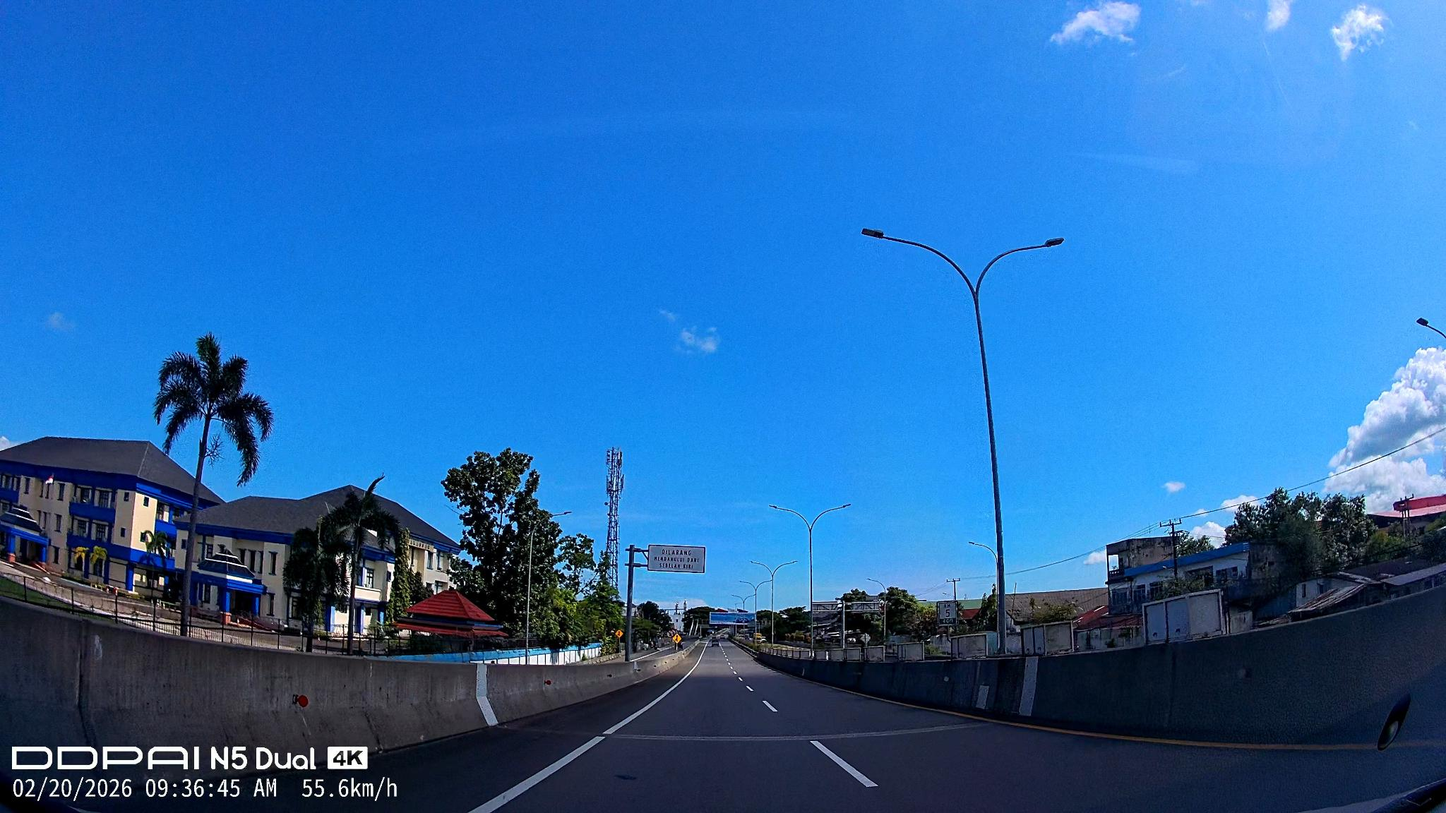rambu_teks: (647, 544, 706, 574)
